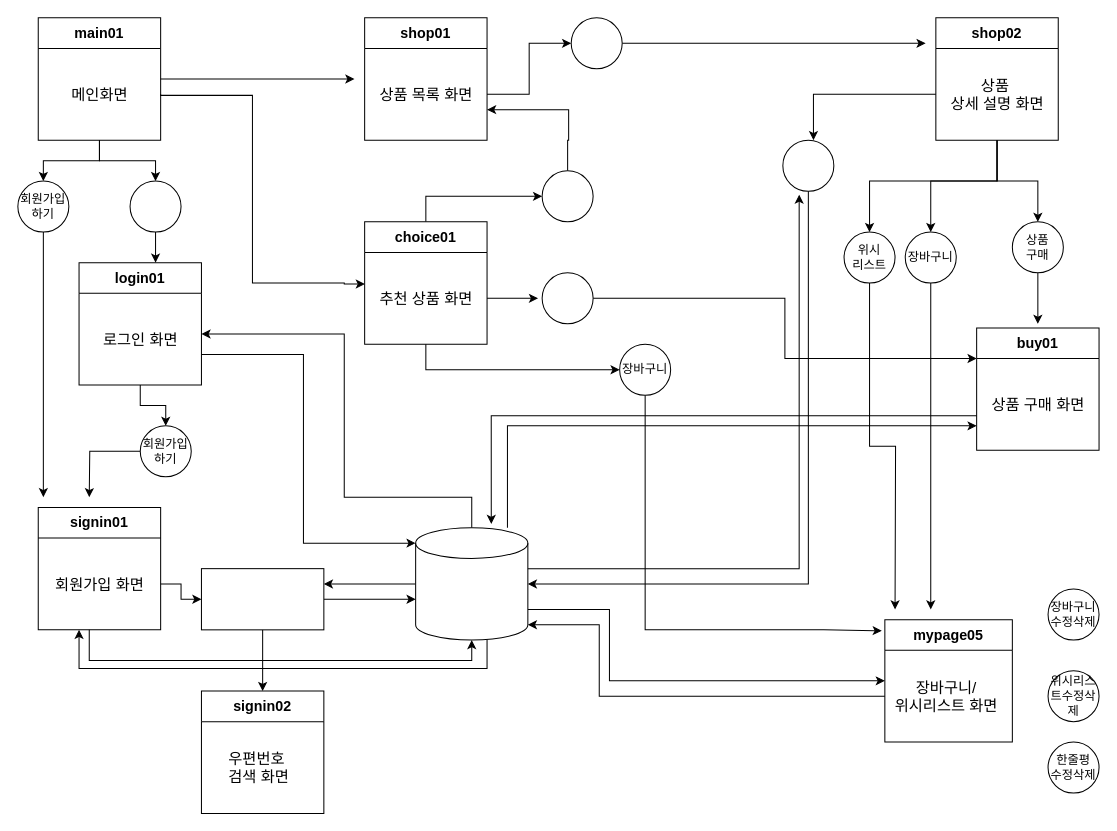
The diagram is 1117 pixels wide and 831 high, and some of its shapes have lost their labels. Each missing label, with the centre of its shape:
"DB" belongs at (x=471, y=583).
"검색 서블렛" belongs at (x=262, y=599).
"로그인 하기" belongs at (x=155, y=206).
"상품 선택" belongs at (x=596, y=43).
"상품구매" belongs at (x=567, y=298).
"자세히 보기" belongs at (x=567, y=196).
"한줄평 작성" belongs at (x=808, y=165).
